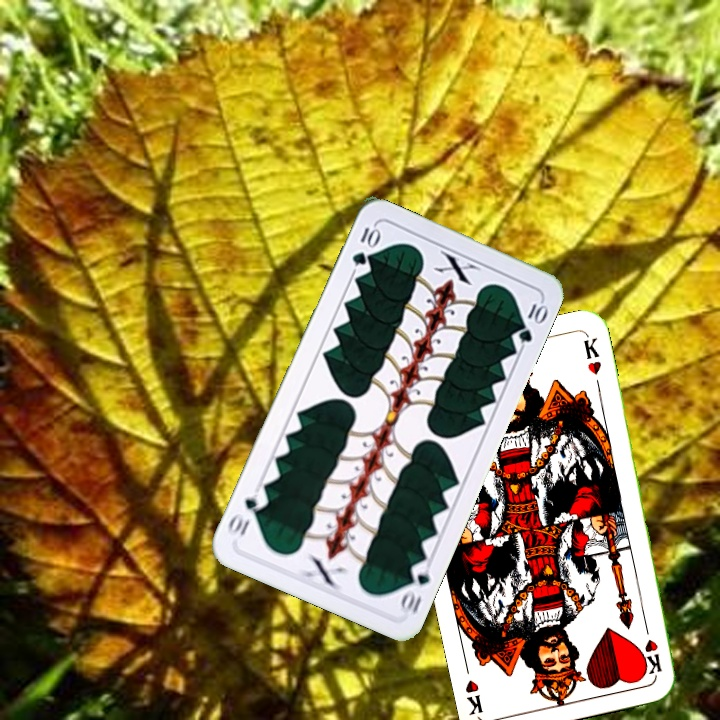G10: (395, 557, 433, 616), (348, 222, 382, 269)
HK: (640, 618, 664, 677)
